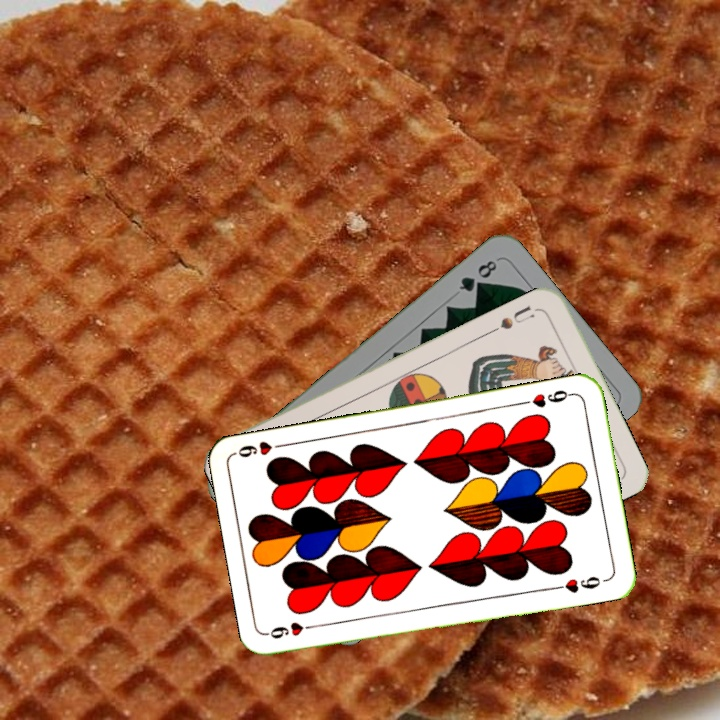G8: (454, 256, 500, 295)
H9: (518, 385, 577, 410), (265, 619, 324, 641)
SU: (487, 302, 537, 336)
